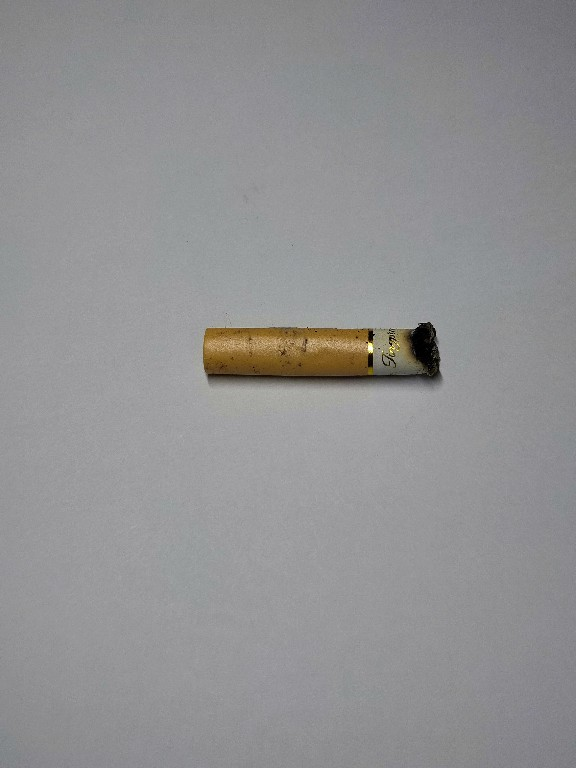cigarette: (194, 317, 450, 393)
